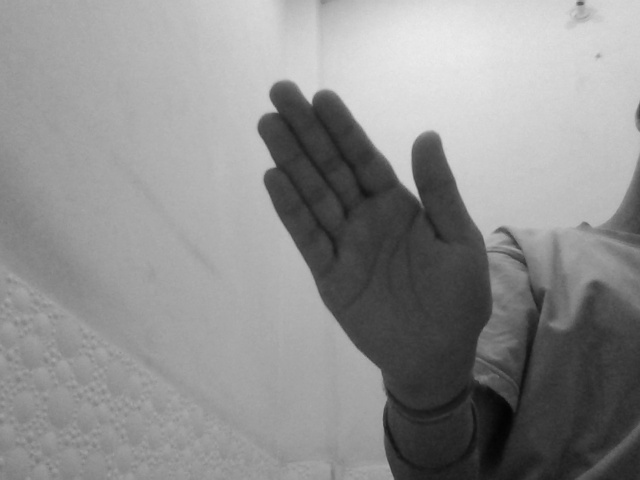Hello: (255, 76, 498, 378)
